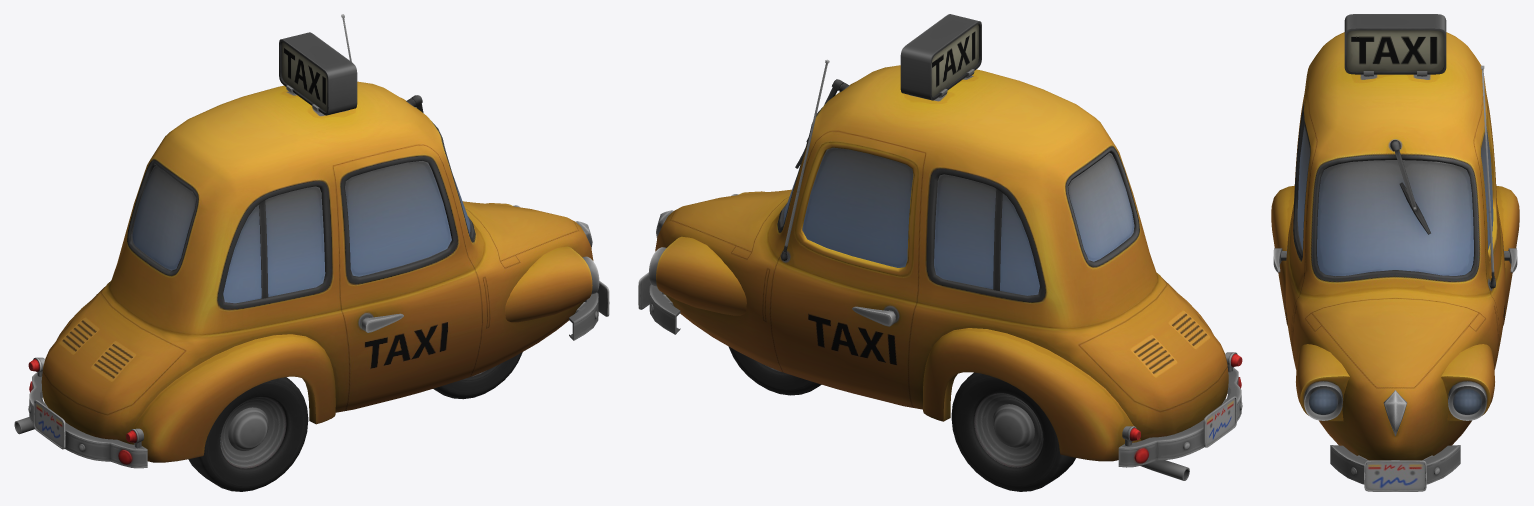
Rendered from daihatsu_bee_asset.fbx.
3 views of the same model, side by side, from view 1: azimuth 30°, elevation 25°; view 2: azimuth 150°, elevation 25°; view 3: azimuth 270°, elevation 25° (orthographic). The views are drawn at different scales.
Visible parts, largest first — view 1: b9; view 2: b9; view 3: b9.
Boxes of the visible parts, x1,y1,x2,y2 form: b9: [14, 14, 609, 491]; b9: [638, 14, 1242, 491]; b9: [1271, 14, 1519, 491].
Size of the model in its own units: 140 by 92.86 by 53.83.
